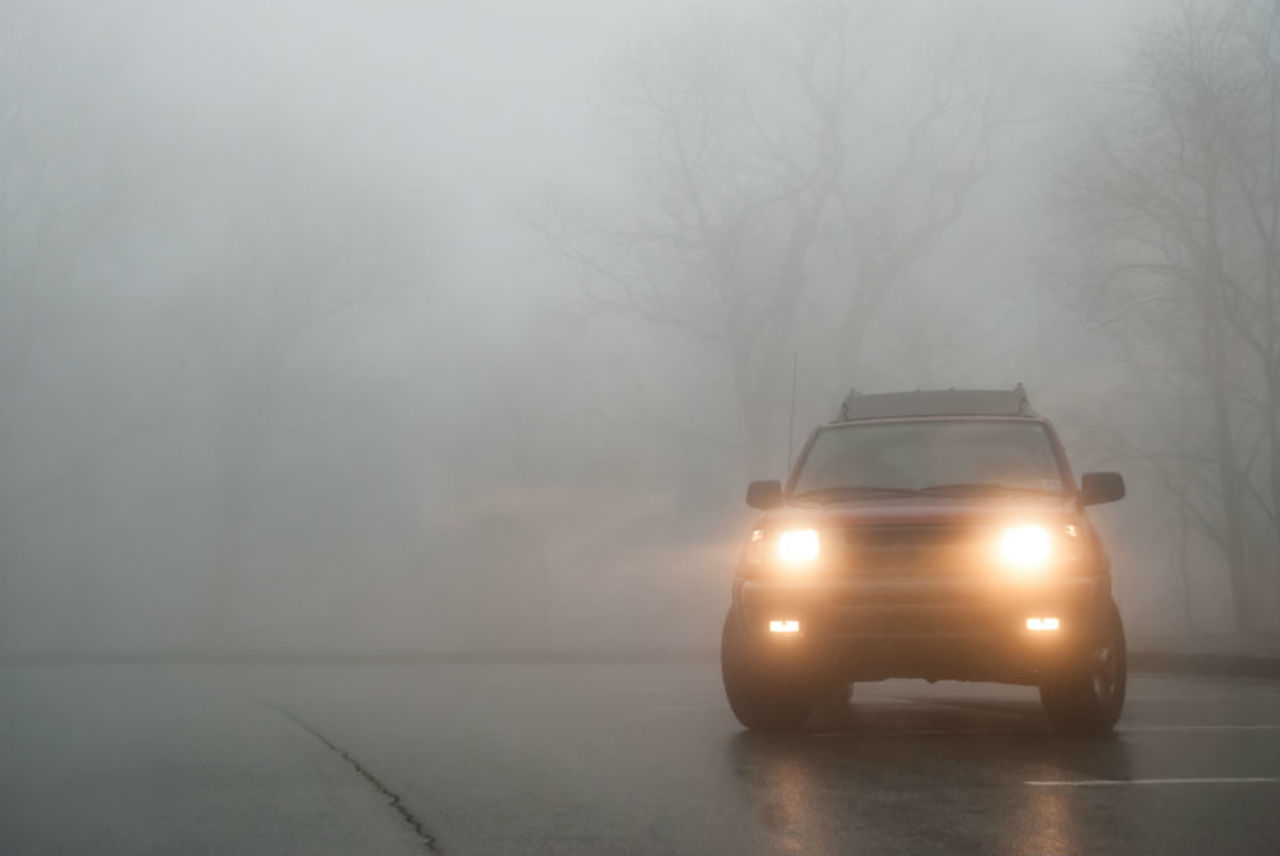car: (725, 391, 1131, 738)
